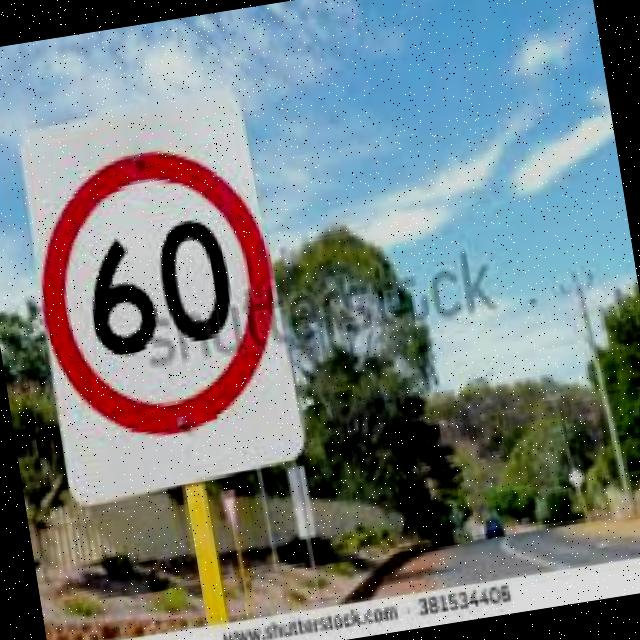Ograniczenie predkosci do 60: (20, 133, 297, 439)
